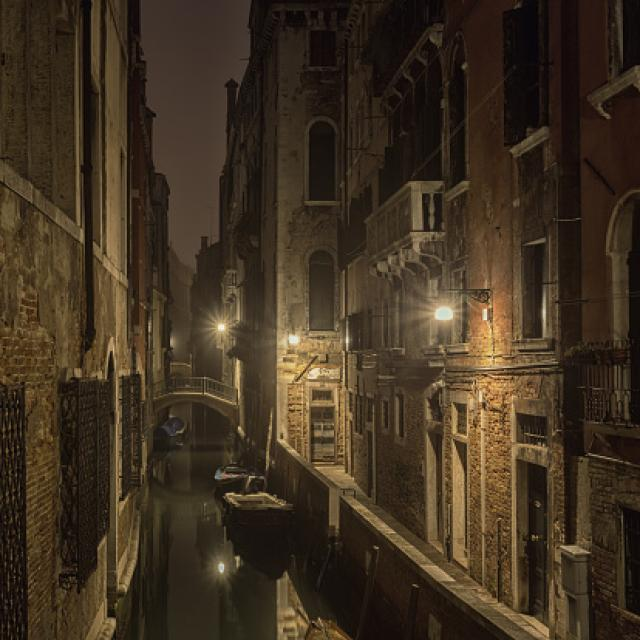Boat: (199, 472, 323, 562)
